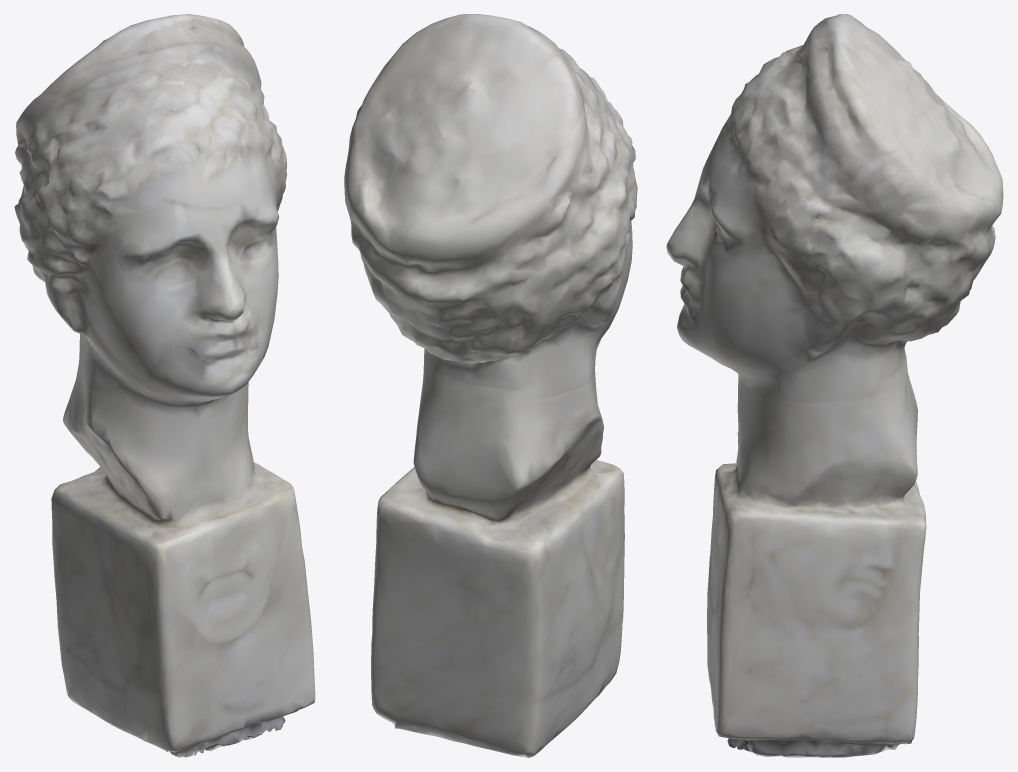
The model's file is Marble_Serenity_0516160117_texture.glb.
3 views of the same model, side by side, from view 1: azimuth 30°, elevation 25°; view 2: azimuth 150°, elevation 25°; view 3: azimuth 270°, elevation 25° (orthographic). The views are drawn at different scales.
Size of the model in its own units: 0.7524 by 2 by 0.8861.
Materials: 1 (1 with a texture image).
